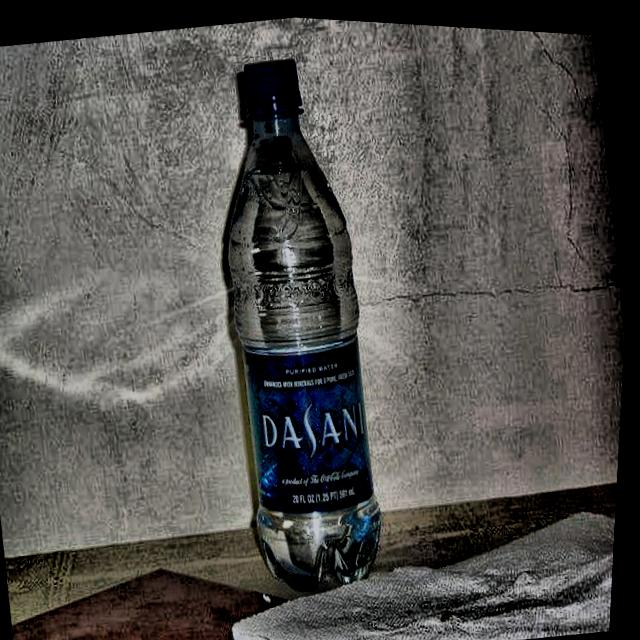Bottles: (169, 37, 432, 598)
